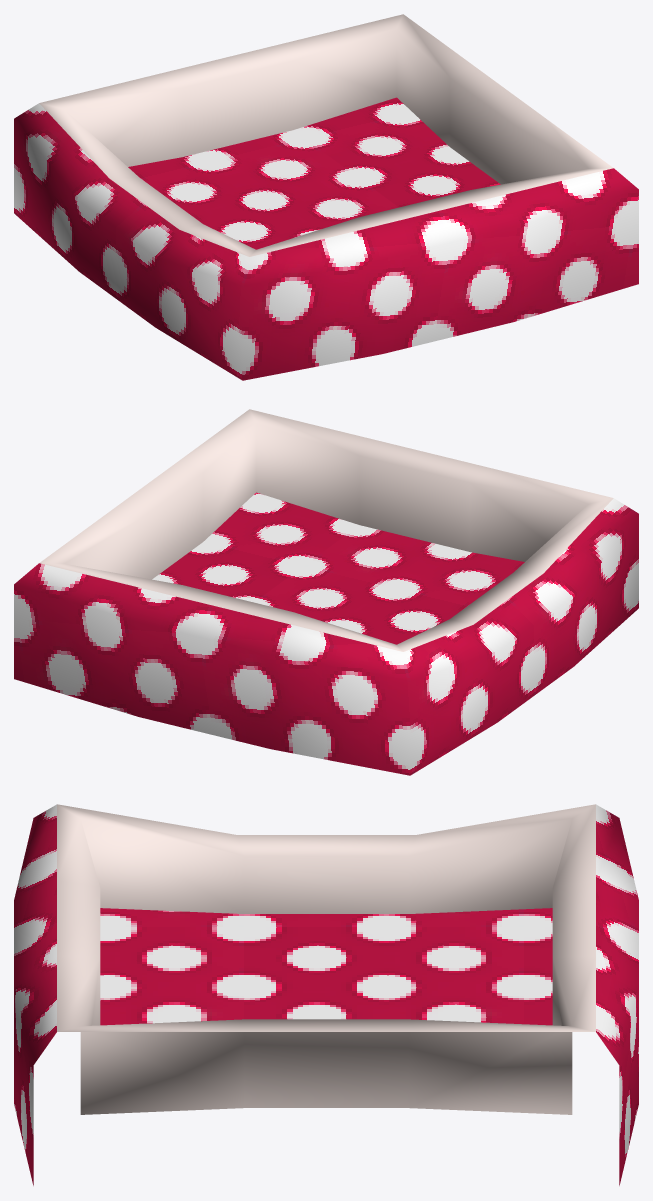
Rendered from interior_C_012.fbx.
3 renders of one model, top to bottom at view 1: azimuth 30°, elevation 25°; view 2: azimuth 150°, elevation 25°; view 3: azimuth 270°, elevation 25°, orthographic. The views are drawn at different scales.
Visible parts, largest first — view 1: interior_C_012; view 2: interior_C_012; view 3: interior_C_012.
Part boxes in pixels (x1=…): interior_C_012: x1=14, y1=14, x2=638, y2=380; interior_C_012: x1=14, y1=409, x2=638, y2=775; interior_C_012: x1=14, y1=804, x2=638, y2=1185.
Size of the model in its own units: 53.98 by 14.32 by 56.02.
Materials: 2 (1 with a texture image).
